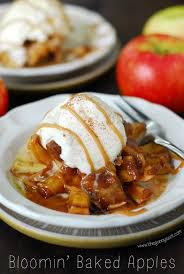apple: (123, 32, 183, 112), (0, 81, 6, 115)
